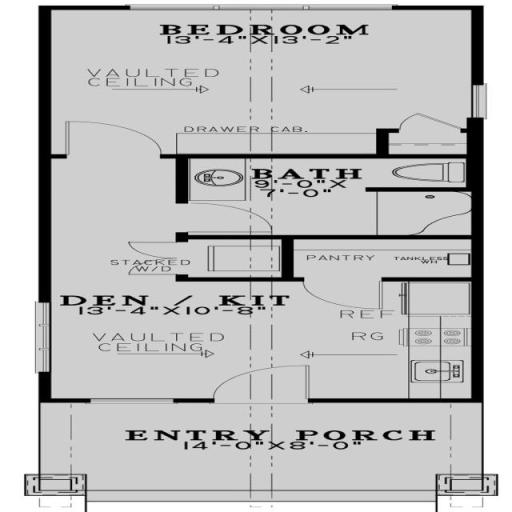bathroom: (196, 158, 462, 240)
bedroom: (47, 6, 466, 151)
kitchen: (67, 240, 463, 396)
porch: (52, 404, 474, 500)
